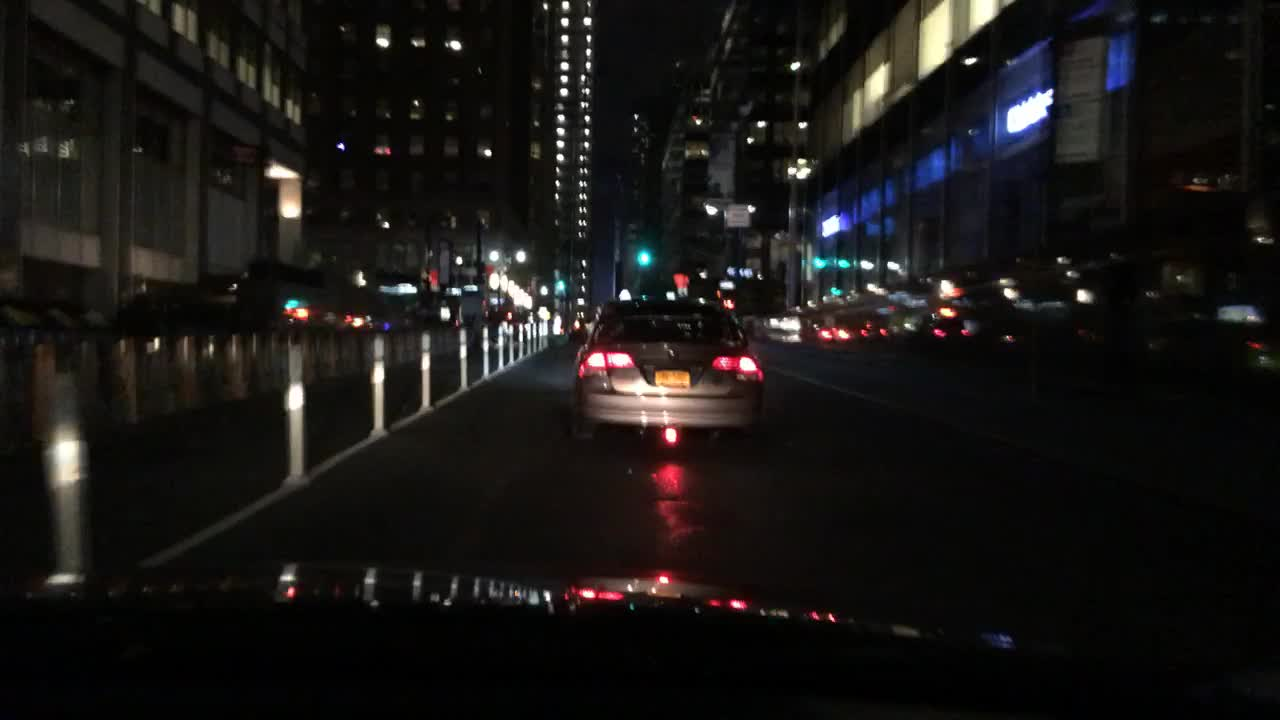car: (575, 292, 762, 448), (1154, 298, 1274, 383), (1046, 293, 1179, 368), (971, 301, 1048, 350), (926, 315, 970, 346)
traffic light: (638, 233, 652, 273)
traffic sign: (1054, 37, 1108, 98), (1052, 101, 1103, 163), (724, 203, 754, 227)
